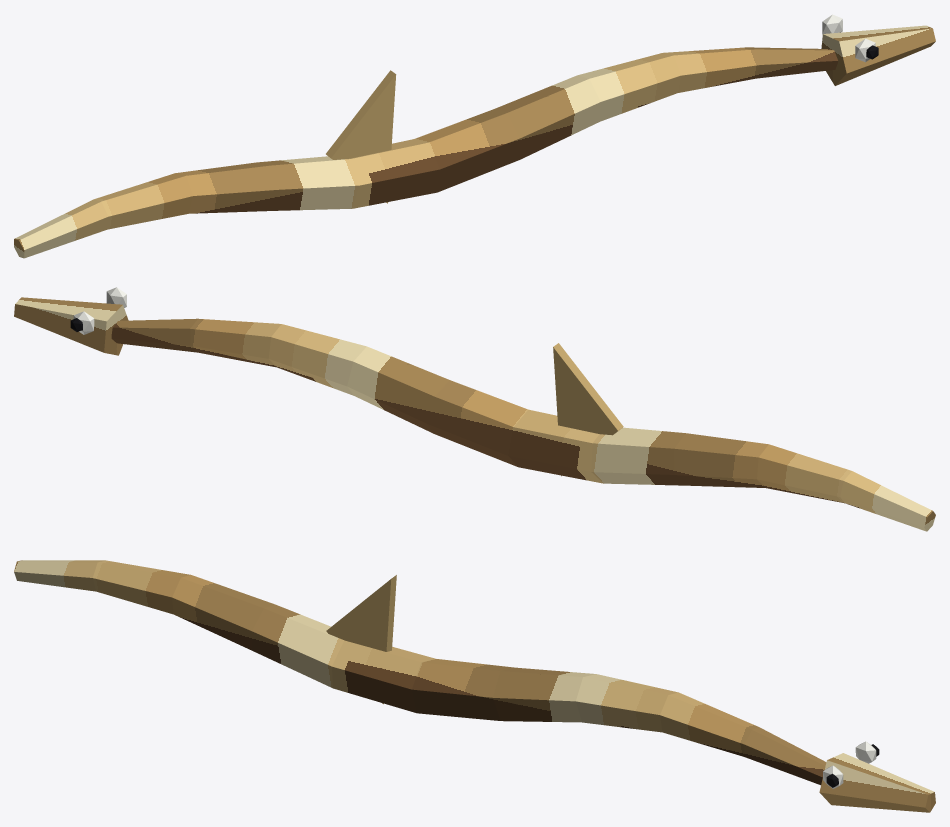
File: harbour_pipehorse.glb
3 views of the same model, one above another, from view 1: azimuth 30°, elevation 25°; view 2: azimuth 150°, elevation 25°; view 3: azimuth 330°, elevation 25° (orthographic).
Visible parts, largest first — view 1: fish_harbour_pipehorse; view 2: fish_harbour_pipehorse; view 3: fish_harbour_pipehorse.
Part boxes in pixels (bbox=[...]): fish_harbour_pipehorse: bbox=[14, 14, 935, 258]; fish_harbour_pipehorse: bbox=[14, 287, 935, 531]; fish_harbour_pipehorse: bbox=[14, 560, 935, 812].
Size of the model in its own units: 1.12 by 0.15 by 0.0946.
4 materials, 1 textured.
